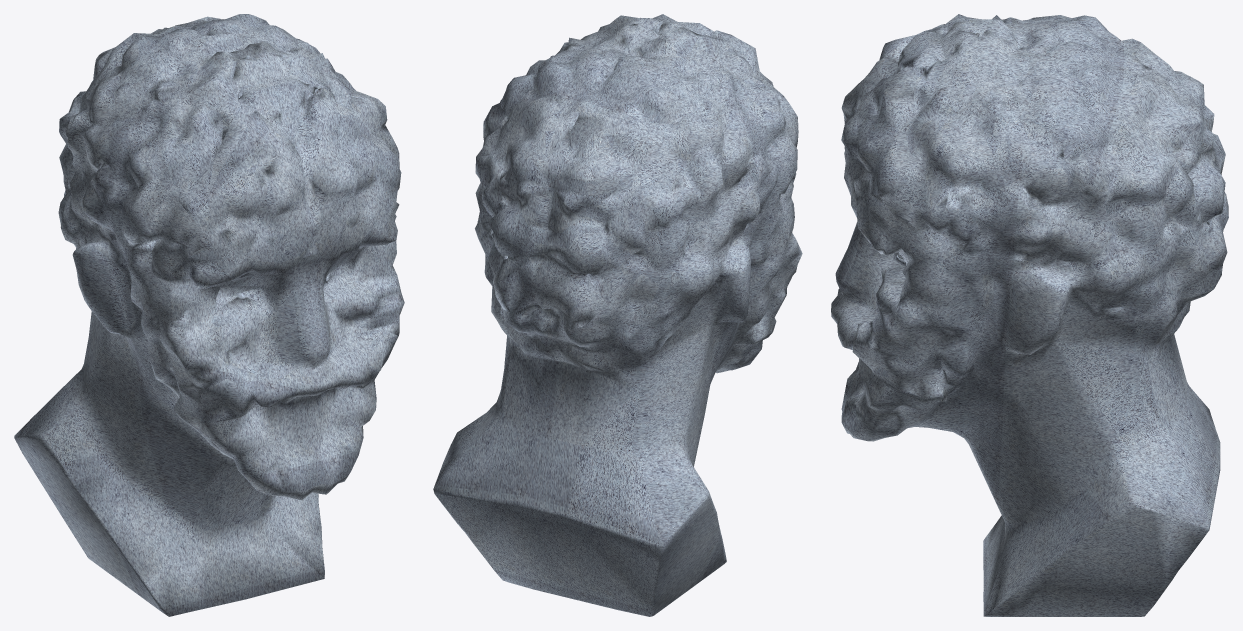
Rendered from GreekFaceGod.glb.
The picture shows the model from 3 angles, left to right: view 1: azimuth 30°, elevation 25°; view 2: azimuth 150°, elevation 25°; view 3: azimuth 270°, elevation 25°; orthographic projection. The views are drawn at different scales.
Parts seen in each view (by area): view 1: Man Face; view 2: Man Face; view 3: Man Face.
Boxes of the visible parts, bbox=[...] form: Man Face: bbox=[14, 14, 404, 616]; Man Face: bbox=[433, 14, 802, 616]; Man Face: bbox=[831, 14, 1228, 616].
Bounding box in the file's own units: 1.72 × 3.29 × 2.14.
Materials: 1 (1 with a texture image).
